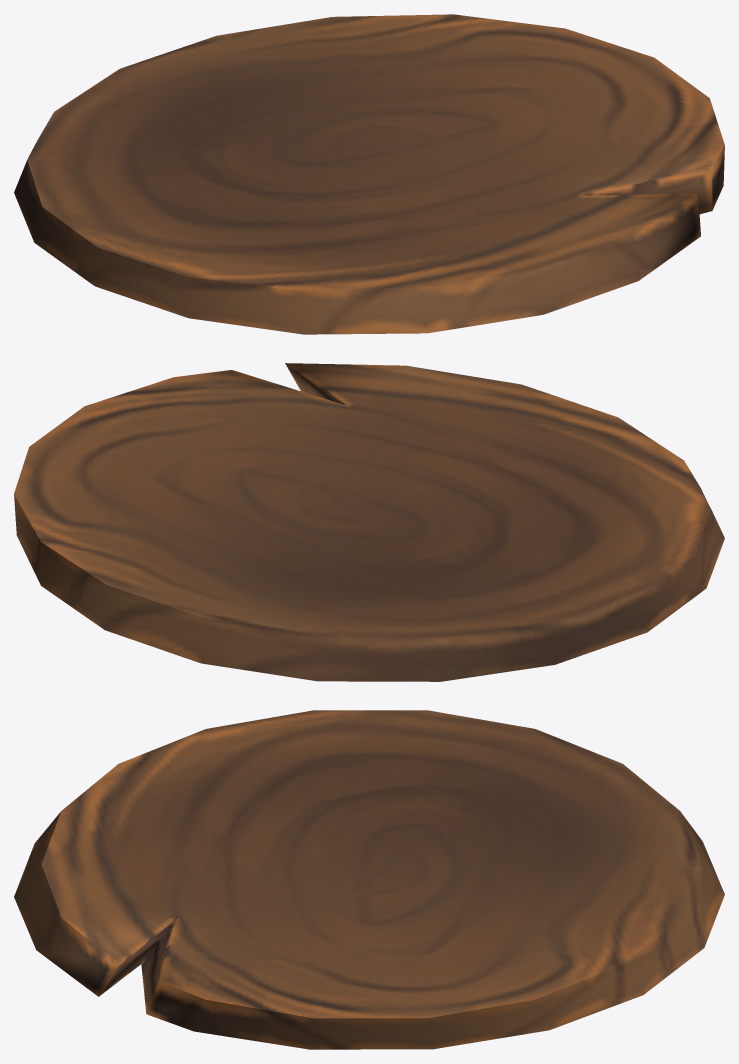
File: cutting_board2.fbx
The picture shows the model from 3 angles, top to bottom: view 1: azimuth 30°, elevation 25°; view 2: azimuth 150°, elevation 25°; view 3: azimuth 270°, elevation 25°; orthographic projection. The views are drawn at different scales.
Parts seen in each view (by area): view 1: cutting_board2; view 2: cutting_board2; view 3: cutting_board2.
Boxes of the visible parts, x1,y1,x2,y2 form: cutting_board2: (14, 14, 724, 334); cutting_board2: (14, 363, 724, 681); cutting_board2: (14, 710, 724, 1049).
Bounding box in the file's own units: 73.12 × 3.87 × 70.46.
